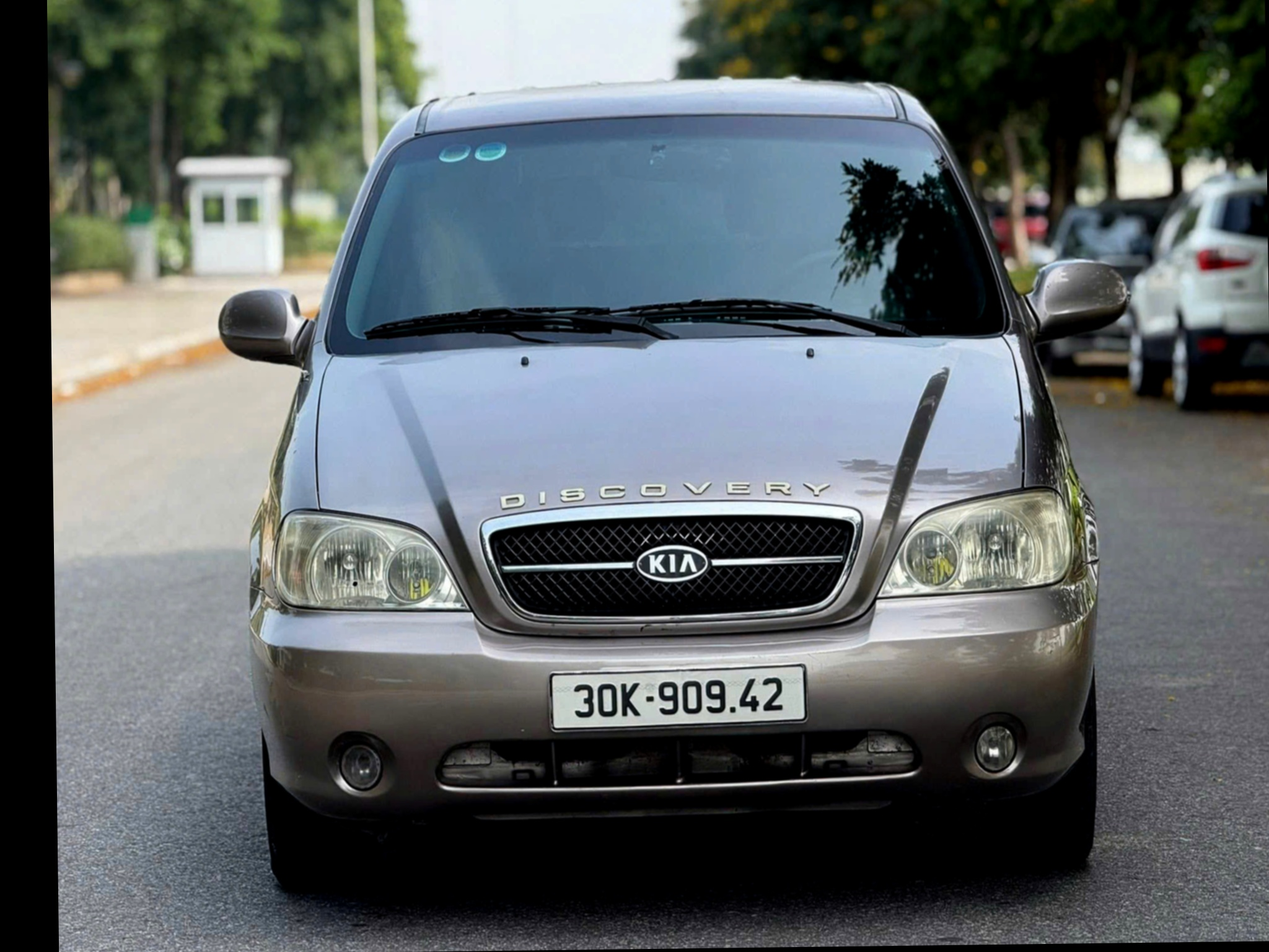Bien-so: (555, 664, 811, 725)
